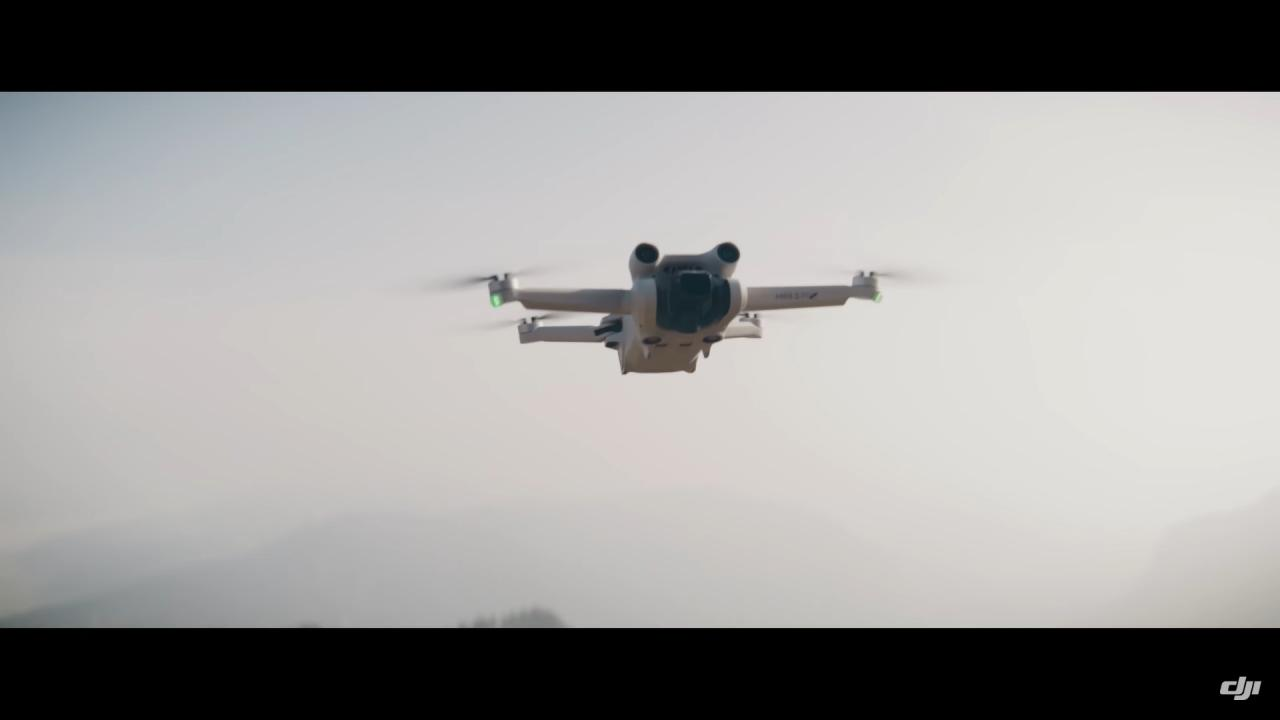Drone: (417, 204, 968, 413)
